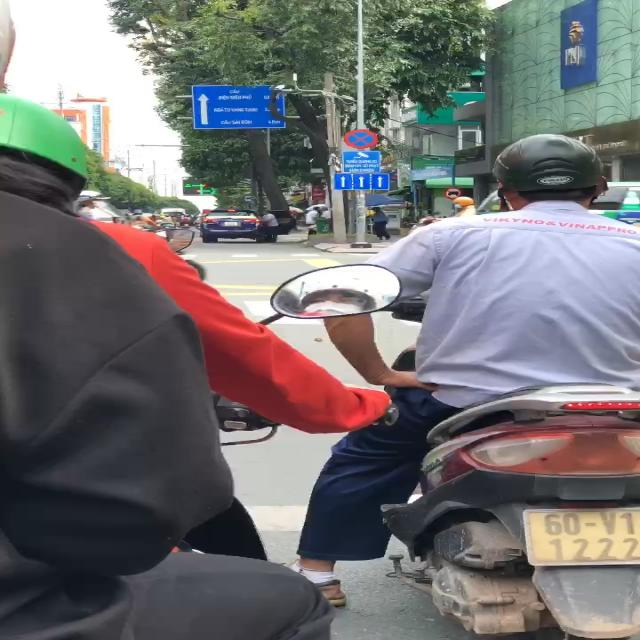Bien bao cam dung xe va do xe: (341, 127, 380, 150)
